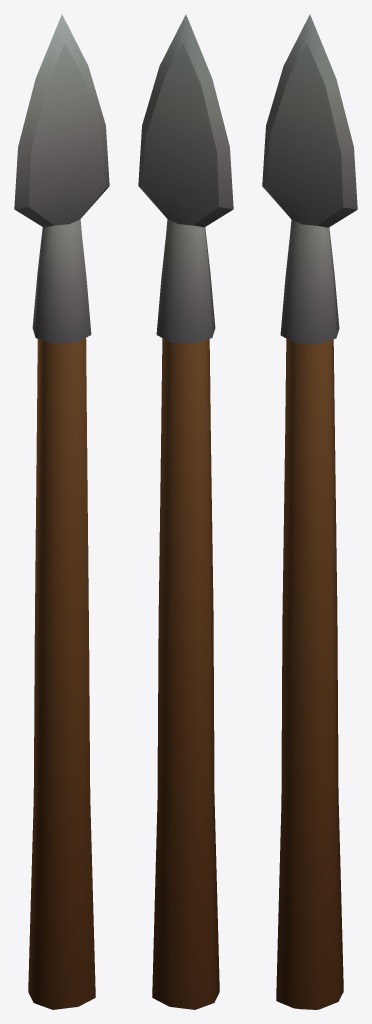
Rendered from Spear_03.obj.
3 views of the same model, side by side, from view 1: azimuth 30°, elevation 25°; view 2: azimuth 150°, elevation 25°; view 3: azimuth 330°, elevation 25° (orthographic).
Visible parts, largest first — view 1: Spear_03; view 2: Spear_03; view 3: Spear_03.
Part boxes in pixels (x1,y1,x2,y2): Spear_03: (14,14,109,1009); Spear_03: (138,14,233,1009); Spear_03: (262,14,357,1009).
Bounding box in the file's own units: 0.1453 × 1.44 × 0.0866.
